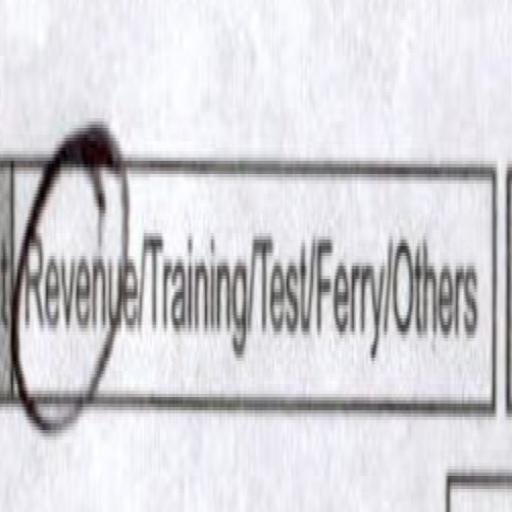check: (10, 88, 140, 453)
